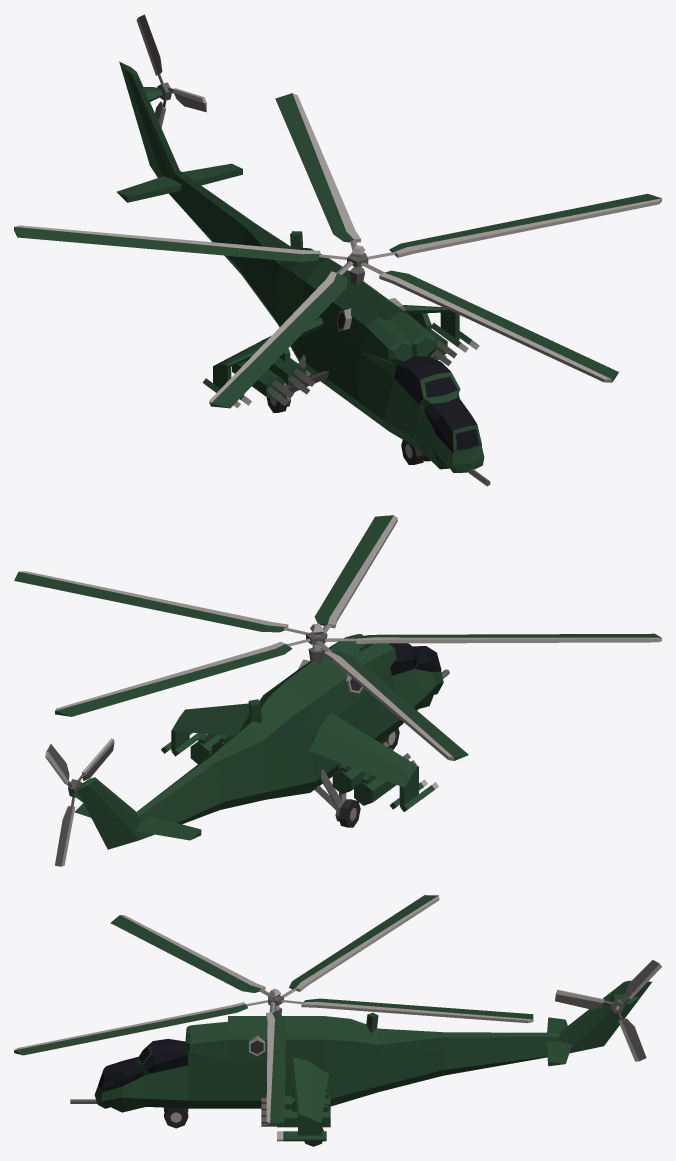
File: military-helicopter-b-military.glb
The picture shows the model from 3 angles, top to bottom: view 1: azimuth 30°, elevation 25°; view 2: azimuth 150°, elevation 25°; view 3: azimuth 270°, elevation 25°; orthographic projection. The views are drawn at different scales.
Parts seen in each view (by area): view 1: SM_Helicopter_B_Military_Base, SM_Helicopter_B_Military_Propeller_Main, SM_Helicopter_B_Military_Propeller_Small; view 2: SM_Helicopter_B_Military_Base, SM_Helicopter_B_Military_Propeller_Main, SM_Helicopter_B_Military_Propeller_Small, SM_Helicopter_B_Military_Wheel_BR; view 3: SM_Helicopter_B_Military_Base, SM_Helicopter_B_Military_Propeller_Main, SM_Helicopter_B_Military_Propeller_Small, SM_Helicopter_B_Military_Wheel_F.
Boxes of the visible parts, box(x1,y1,x2,y2) form: SM_Helicopter_B_Military_Base: box(116, 61, 490, 486); SM_Helicopter_B_Military_Propeller_Main: box(14, 93, 661, 408); SM_Helicopter_B_Military_Propeller_Small: box(136, 14, 206, 127); SM_Helicopter_B_Military_Base: box(73, 623, 449, 849); SM_Helicopter_B_Military_Propeller_Main: box(14, 515, 661, 760); SM_Helicopter_B_Military_Propeller_Small: box(45, 738, 114, 866); SM_Helicopter_B_Military_Wheel_BR: box(335, 799, 360, 827); SM_Helicopter_B_Military_Base: box(70, 980, 651, 1141); SM_Helicopter_B_Military_Propeller_Main: box(14, 895, 533, 1125); SM_Helicopter_B_Military_Propeller_Small: box(555, 960, 661, 1061); SM_Helicopter_B_Military_Wheel_F: box(164, 1107, 188, 1128).
Bounding box in the file's own units: 15.6 × 6.01 × 20.29.
